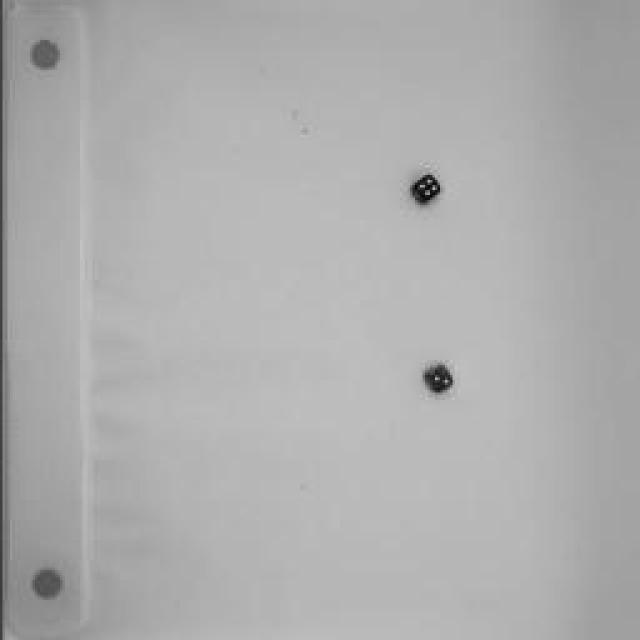dice_2: (418, 364, 454, 396)
dice_4: (408, 175, 440, 207)
